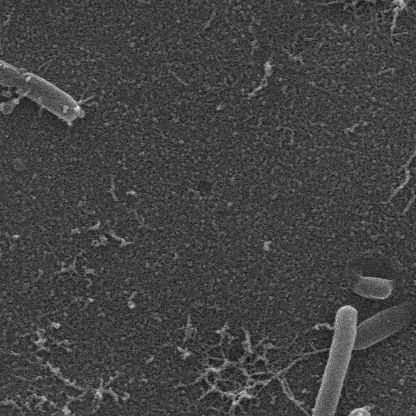cell2surface: (255, 349, 331, 395), (265, 371, 315, 416), (411, 3, 416, 39), (108, 0, 147, 3)
regular: (311, 307, 356, 416), (17, 73, 80, 126), (351, 304, 416, 351), (0, 49, 15, 90), (309, 409, 370, 416), (414, 0, 416, 12)
